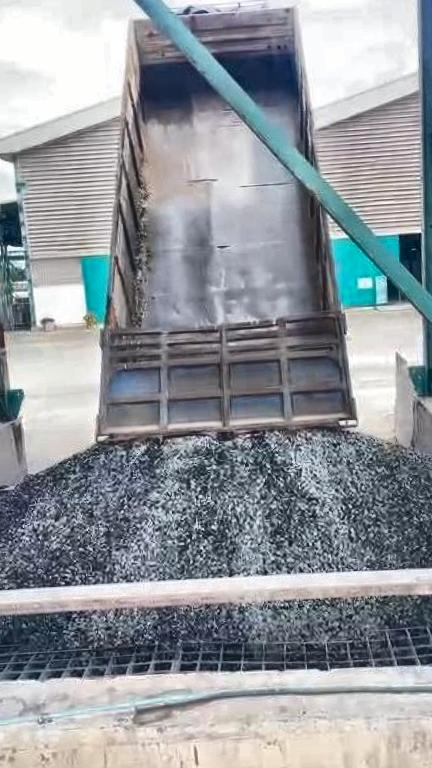gravel: (0, 432, 432, 590), (0, 596, 432, 646)
